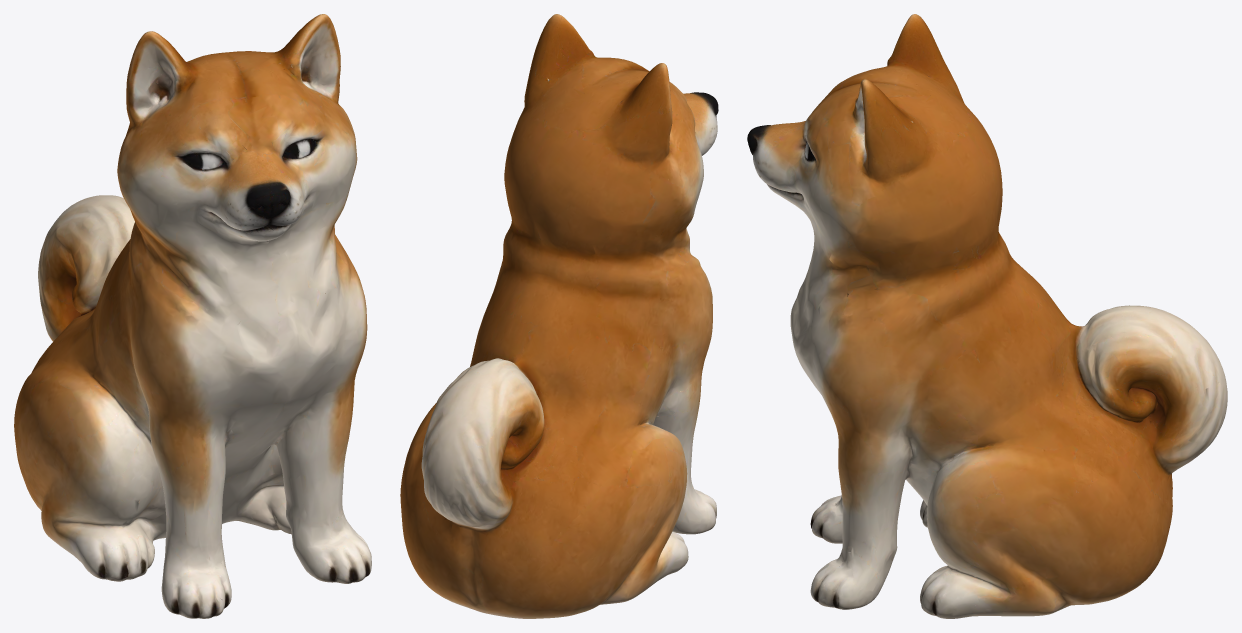
File: shiba.glb
3 views of the same model, side by side, from view 1: azimuth 30°, elevation 25°; view 2: azimuth 150°, elevation 25°; view 3: azimuth 270°, elevation 25° (orthographic). The views are drawn at different scales.
Parts seen in each view (by area): view 1: Mesh_0; view 2: Mesh_0; view 3: Mesh_0.
Part boxes in pixels (<box>): Mesh_0: <box>14,14,371,618</box>; Mesh_0: <box>400,14,718,618</box>; Mesh_0: <box>747,14,1227,618</box>.
Size of the model in its own units: 0.2067 by 0.4 by 0.3376.
Materials: 1 (1 with a texture image).
